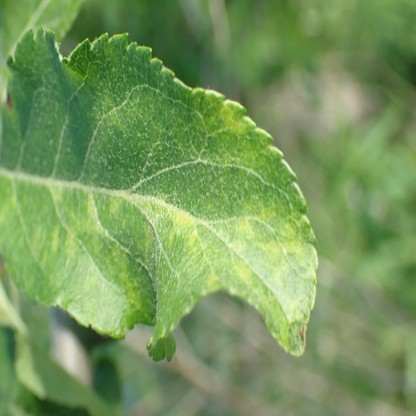frogeye_leaf_spot: (6, 93, 13, 110)
scab: (243, 198, 276, 222), (85, 193, 103, 235), (0, 175, 15, 224), (220, 103, 243, 132), (28, 221, 42, 255), (138, 225, 153, 256), (258, 237, 278, 259), (233, 259, 250, 284), (235, 215, 254, 237), (280, 235, 302, 254), (65, 229, 75, 262), (108, 194, 122, 217), (272, 260, 288, 280), (173, 210, 191, 227), (278, 221, 295, 238), (187, 231, 198, 256), (304, 263, 316, 282), (51, 225, 59, 251), (40, 250, 49, 272), (49, 184, 62, 198), (289, 300, 298, 320), (206, 277, 219, 286), (169, 231, 177, 243)
